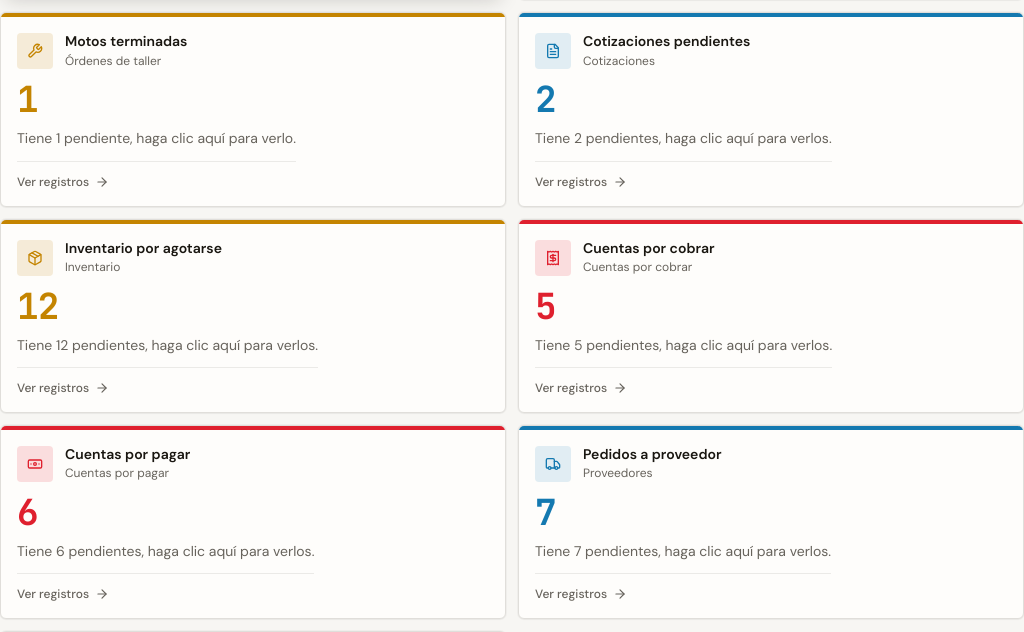
Test: DashboardPage › opens the alert's records in a modal instead of navigating to the module
(page scrolled)
Click the button with test id "dashboard.alert.5".
click(253, 222)  # box [0,218,506,413]
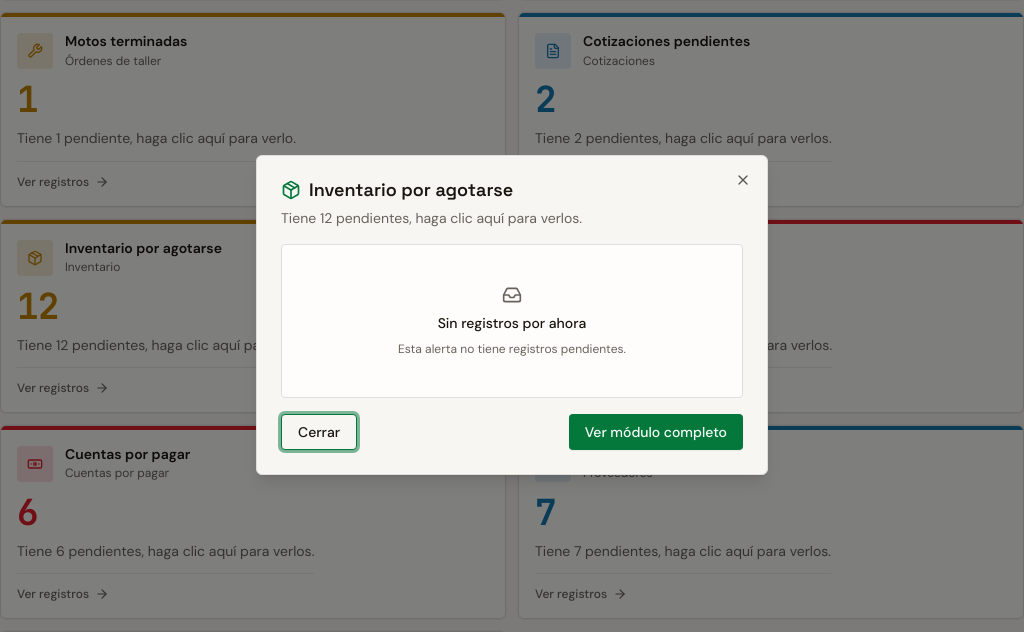
Now the dialog with test id "dashboard.alert_list.dialog" is shown, box [256,155,768,475]
